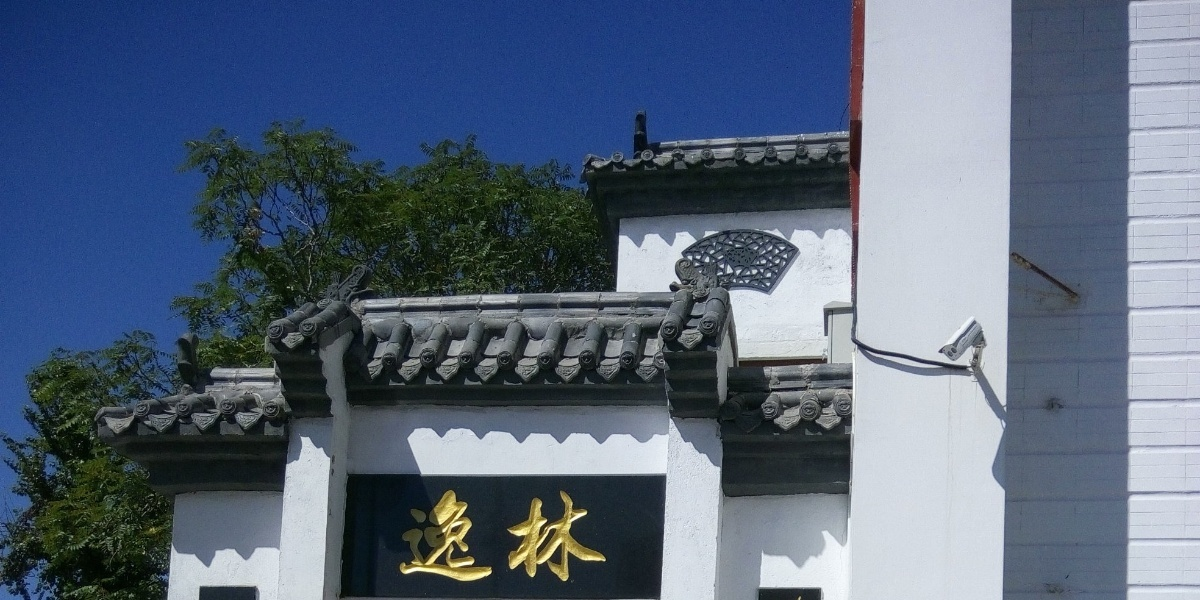text: (401, 484, 416, 586), (417, 484, 432, 586), (433, 484, 448, 586), (449, 484, 464, 586), (465, 484, 480, 586), (481, 484, 496, 586), (497, 484, 512, 586), (513, 484, 528, 586), (529, 484, 544, 586), (545, 484, 560, 586), (561, 484, 576, 586), (577, 484, 592, 586), (593, 484, 605, 586), (396, 484, 400, 586)
